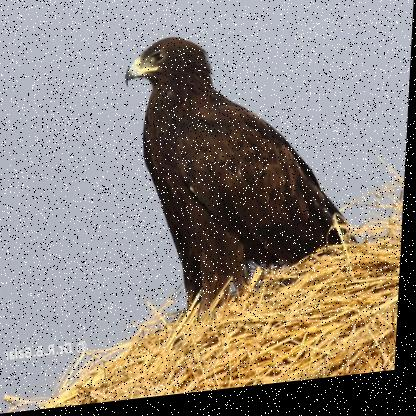Burung: (115, 20, 374, 328)
